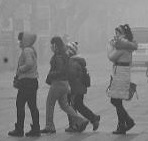person: (40, 36, 87, 133), (7, 32, 43, 136), (106, 24, 139, 136), (63, 40, 101, 134)
